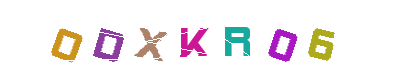0: (197, 0, 277, 80)
6: (199, 0, 279, 80)
D: (112, 0, 192, 80)
K: (157, 0, 237, 80)
O: (68, 0, 148, 80)
R: (159, 0, 239, 80)
X: (156, 0, 236, 80)
